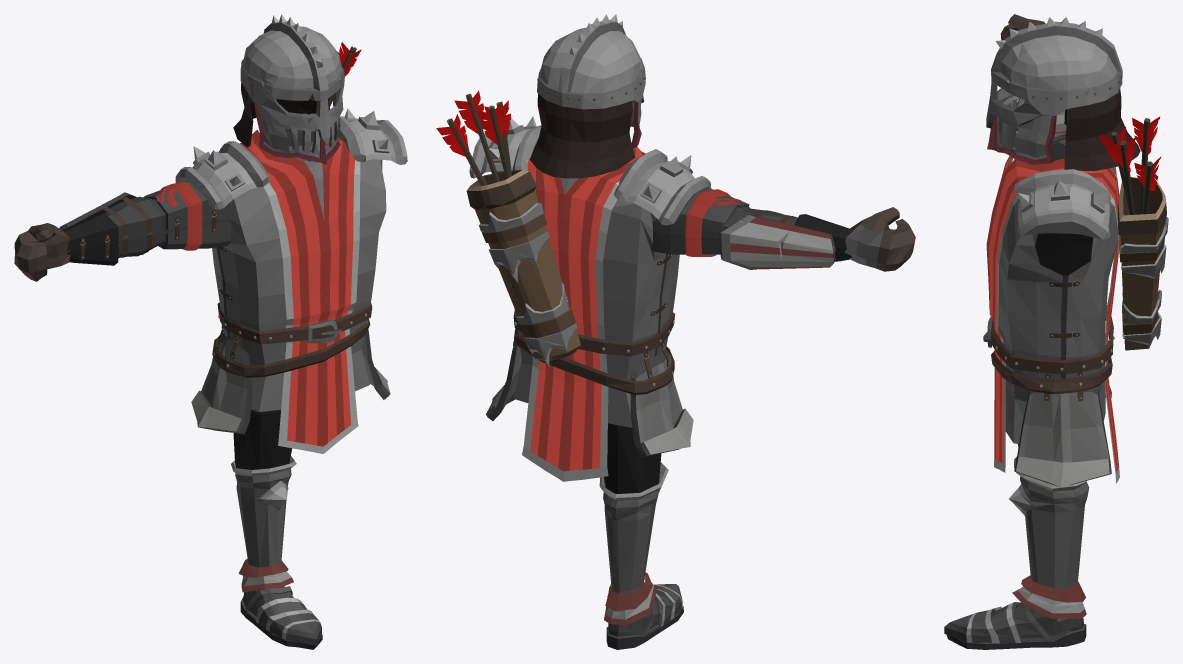
Rendered from basicArmor.glb.
3 views of the same model, side by side, from view 1: azimuth 30°, elevation 25°; view 2: azimuth 150°, elevation 25°; view 3: azimuth 270°, elevation 25° (orthographic). The views are drawn at different scales.
Parts seen in each view (by area): view 1: basicKnightArmorBody, basicKnightArmorHelmet, basicKnightArmorLowerLeg, basicKnightArmorLowerArm, basicKnightArmorBelt, basicKnightArmorUpperArm, KnightShoe, basicKnightArmorUpperLeg, basicKnightArmorHandArm; view 2: basicKnightArmorBody, basicKnightArmorHelmet, basicQuiver, basicKnightArmorLowerArm, basicKnightArmorLowerLeg, basicKnightArmorUpperArm, basicKnightArmorBelt, basicKnightArmorHandArm, basicKnightArmorUpperLeg, KnightShoe; view 3: basicKnightArmorBody, basicKnightArmorHelmet, basicQuiver, basicKnightArmorLowerLeg, KnightShoe, basicKnightArmorBelt, basicKnightArmorHandArm.
Boxes of the visible parts, box(x1,y1,x2,y2) form: basicKnightArmorBody: box(175, 108, 407, 453); basicKnightArmorHelmet: box(233, 14, 344, 164); basicKnightArmorLowerLeg: box(231, 456, 296, 592); basicKnightArmorLowerArm: box(59, 192, 163, 265); basicKnightArmorBelt: box(212, 302, 372, 377); basicKnightArmorUpperArm: box(144, 181, 231, 250); KnightShoe: box(240, 586, 322, 649); basicKnightArmorUpperLeg: box(233, 409, 292, 469); basicKnightArmorHandArm: box(14, 223, 70, 281); basicKnightArmorBody: box(469, 116, 711, 481); basicKnightArmorHelmet: box(529, 14, 645, 178); basicQuiver: box(436, 90, 580, 366); basicKnightArmorLowerArm: box(719, 208, 851, 269); basicKnightArmorLowerLeg: box(599, 462, 668, 625); basicKnightArmorUpperArm: box(651, 188, 750, 256); basicKnightArmorBelt: box(513, 311, 675, 394); basicKnightArmorHandArm: box(844, 207, 915, 271); basicKnightArmorUpperLeg: box(603, 423, 661, 493); KnightShoe: box(606, 584, 683, 649); basicKnightArmorBody: box(986, 110, 1119, 487); basicKnightArmorHelmet: box(986, 17, 1140, 171); basicQuiver: box(1099, 116, 1168, 350); basicKnightArmorLowerLeg: box(1009, 457, 1089, 618); KnightShoe: box(944, 602, 1086, 649); basicKnightArmorBelt: box(983, 305, 1114, 394); basicKnightArmorHandArm: box(1000, 14, 1045, 40).
Bounding box in the file's own units: 1.43 × 2.02 × 0.643.
